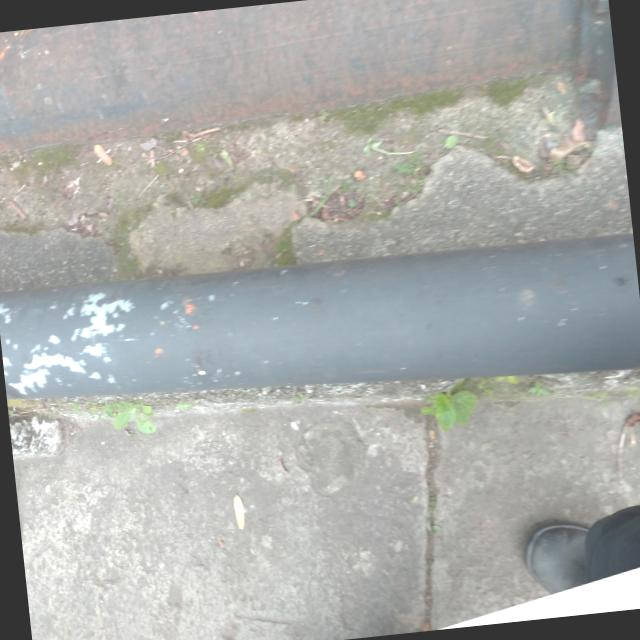gas: (0, 226, 640, 432)
